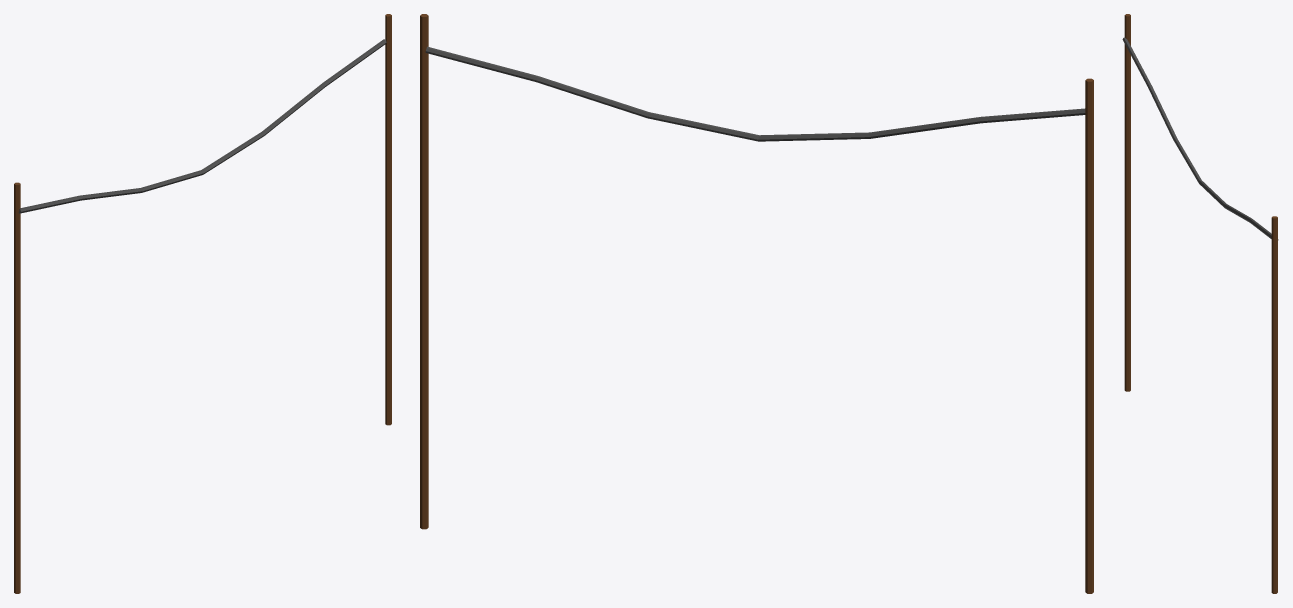
The model's file is Pole_2.fbx.
The picture shows the model from 3 angles, left to right: view 1: azimuth 30°, elevation 25°; view 2: azimuth 150°, elevation 25°; view 3: azimuth 270°, elevation 25°; orthographic projection. The views are drawn at different scales.
Visible parts, largest first — view 1: Pole_2; view 2: Pole_2; view 3: Pole_2.
Part boxes in pixels (x1,y1,x2,y2): Pole_2: (14, 14, 391, 593); Pole_2: (420, 14, 1093, 593); Pole_2: (1122, 14, 1278, 593).
Size of the model in its own units: 234 by 200 by 75.32.
